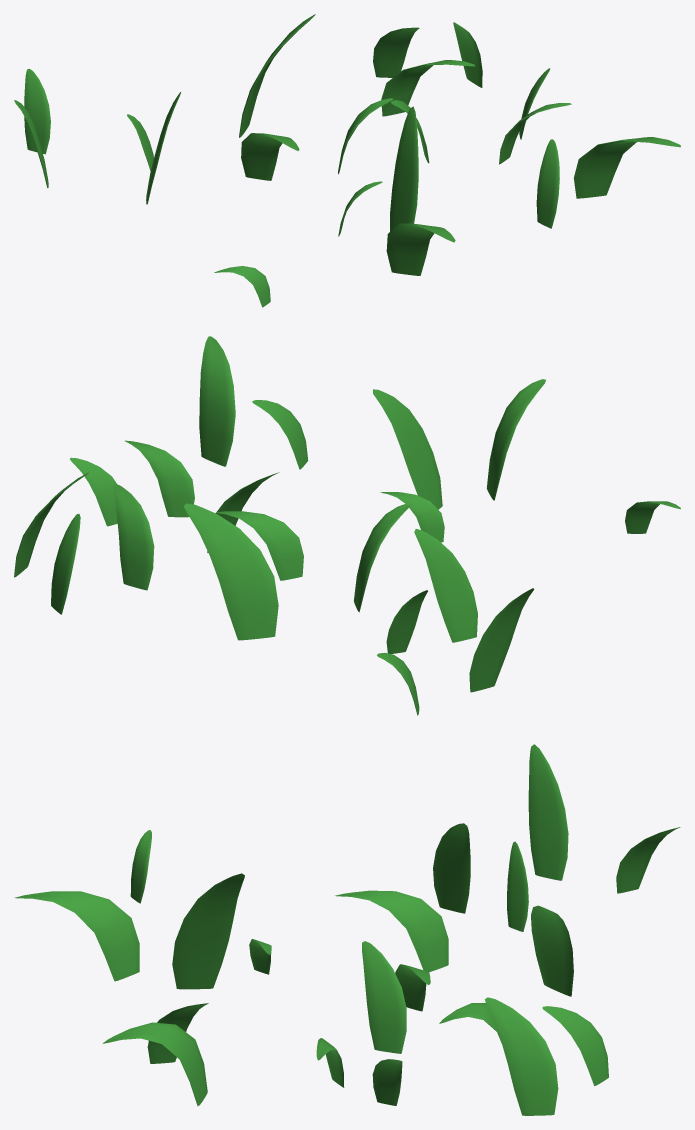
The model's file is grass clump 4.fbx.
3 views of the same model, one above another, from view 1: azimuth 30°, elevation 25°; view 2: azimuth 150°, elevation 25°; view 3: azimuth 270°, elevation 25° (orthographic). The views are drawn at different scales.
Visible parts, largest first — view 1: Grass Clump 4; view 2: Grass Clump 4; view 3: Grass Clump 4.
Boxes of the visible parts, x1=… form: Grass Clump 4: x1=14, y1=14, x2=680, y2=307; Grass Clump 4: x1=14, y1=336, x2=680, y2=715; Grass Clump 4: x1=14, y1=744, x2=680, y2=1115.
Size of the model in its own units: 224 by 52.36 by 234.
